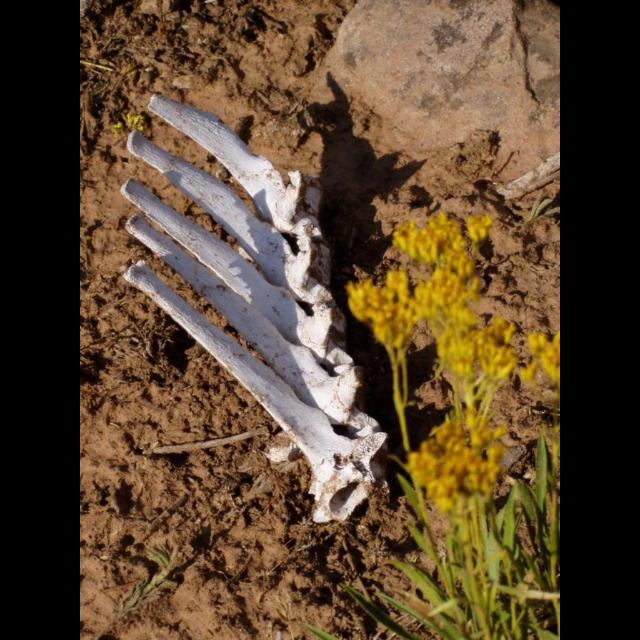Flower: (336, 207, 558, 526)
